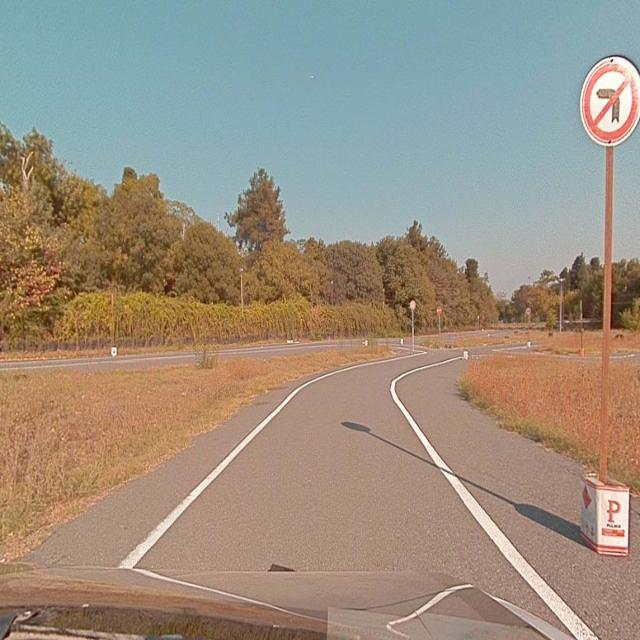soladonulmez: (582, 64, 639, 140)
